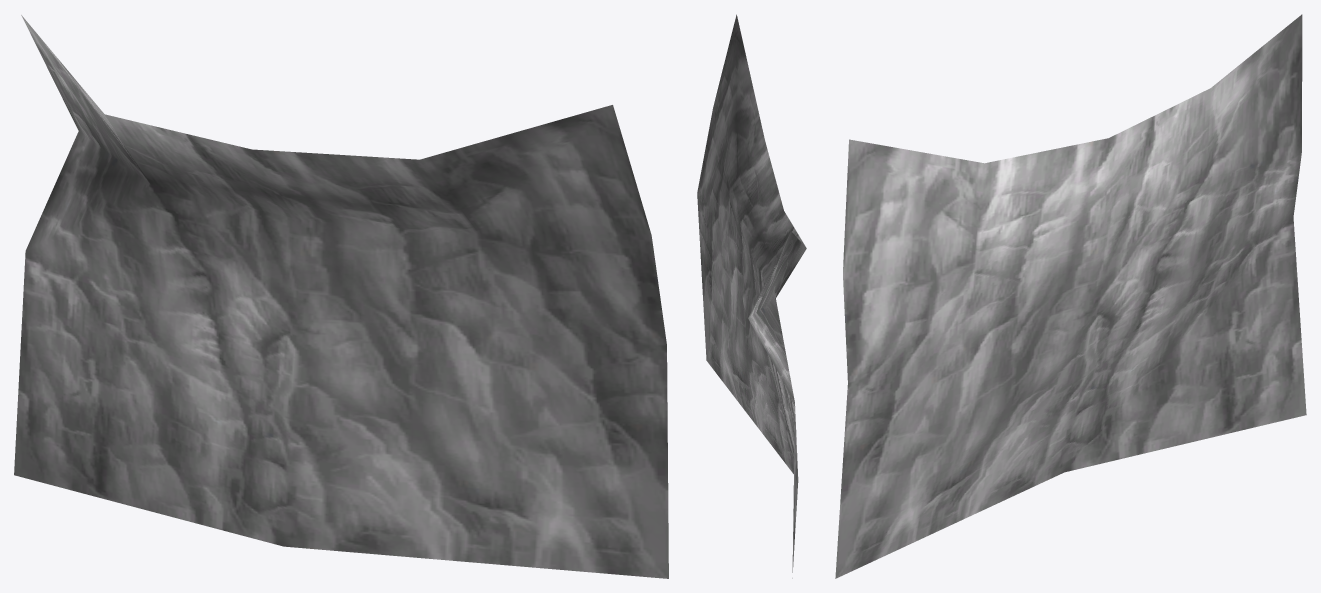
The model's file is SWORDLIGHT20_PS-AREA03_173.fbx.
3 renders of one model, left to right at view 1: azimuth 30°, elevation 25°; view 2: azimuth 150°, elevation 25°; view 3: azimuth 270°, elevation 25°, orthographic. The views are drawn at different scales.
Visible parts, largest first — view 1: SWORDLIGHT20_PS-AREA03_173; view 2: SWORDLIGHT20_PS-AREA03_173; view 3: SWORDLIGHT20_PS-AREA03_173.
Part boxes in pixels (left/top/right/bottom): SWORDLIGHT20_PS-AREA03_173: left=14, top=15, right=668, bottom=578; SWORDLIGHT20_PS-AREA03_173: left=697, top=14, right=806, bottom=578; SWORDLIGHT20_PS-AREA03_173: left=835, top=14, right=1306, bottom=578.
Bounding box in the file's own units: 45359 × 53562 × 54385.
Materials: 1 (1 with a texture image).
